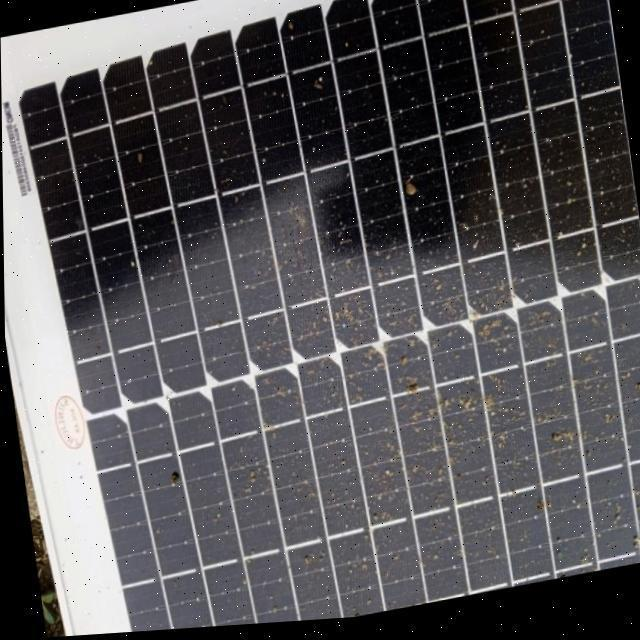Surface Contaminant: (16, 0, 640, 621)
